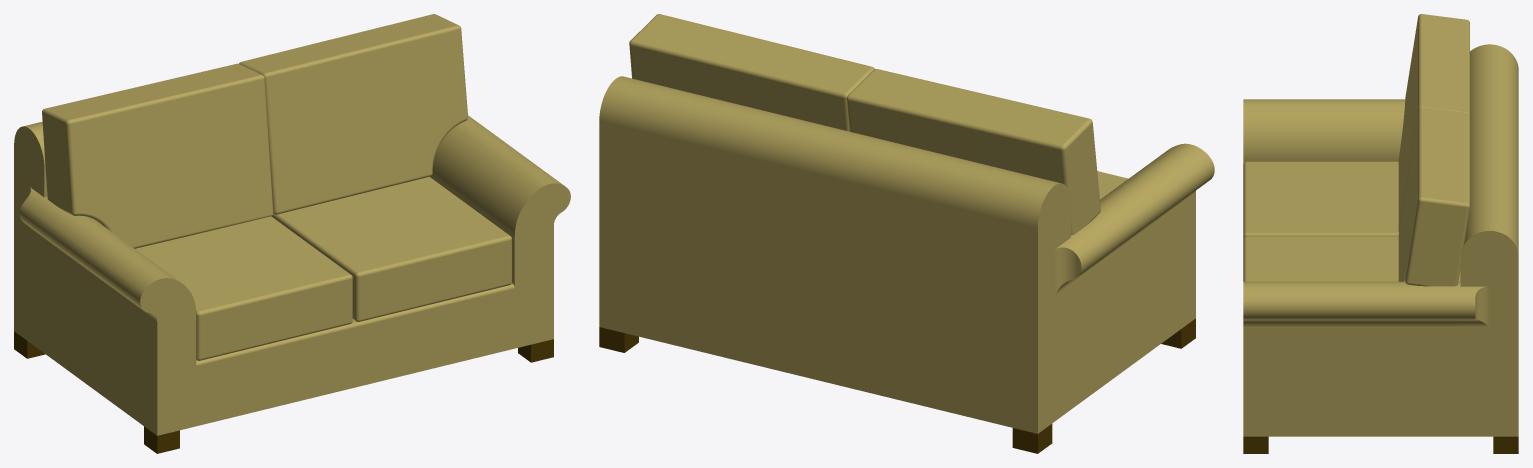
Rendered from Sofa 2.fbx.
3 views of the same model, side by side, from view 1: azimuth 30°, elevation 25°; view 2: azimuth 150°, elevation 25°; view 3: azimuth 270°, elevation 25° (orthographic). The views are drawn at different scales.
Parts seen in each view (by area): view 1: Solid_Addition, Fillet_3, Fillet_4, Fillet_2, Fillet, Extrude_3, Extrude_4; view 2: Solid_Addition, Fillet_3, Fillet_4, Extrude, Extrude_2; view 3: Solid_Addition, Fillet, Fillet_4, Fillet_2, Fillet_3, Extrude_2, Extrude_4.
Boxes of the visible parts, x1,y1,x2,y2 form: Solid_Addition: (14,115,570,435); Fillet_3: (42,63,273,248); Fillet_4: (239,14,467,214); Fillet_2: (272,177,511,321); Fillet: (135,216,352,360); Extrude_3: (144,426,179,453); Extrude_4: (518,339,553,362); Solid_Addition: (599,76,1214,433); Fillet_3: (846,69,1100,235); Fillet_4: (629,14,874,131); Extrude: (1012,424,1052,453); Extrude_2: (599,327,638,352); Solid_Addition: (1243,44,1518,436); Fillet: (1243,161,1398,238); Fillet_4: (1398,107,1469,286); Fillet_2: (1243,236,1460,281); Fillet_3: (1398,14,1469,231); Extrude_2: (1493,436,1518,453); Extrude_4: (1243,436,1268,453).
Bounding box in the file's own units: 1677 × 987 × 965.
